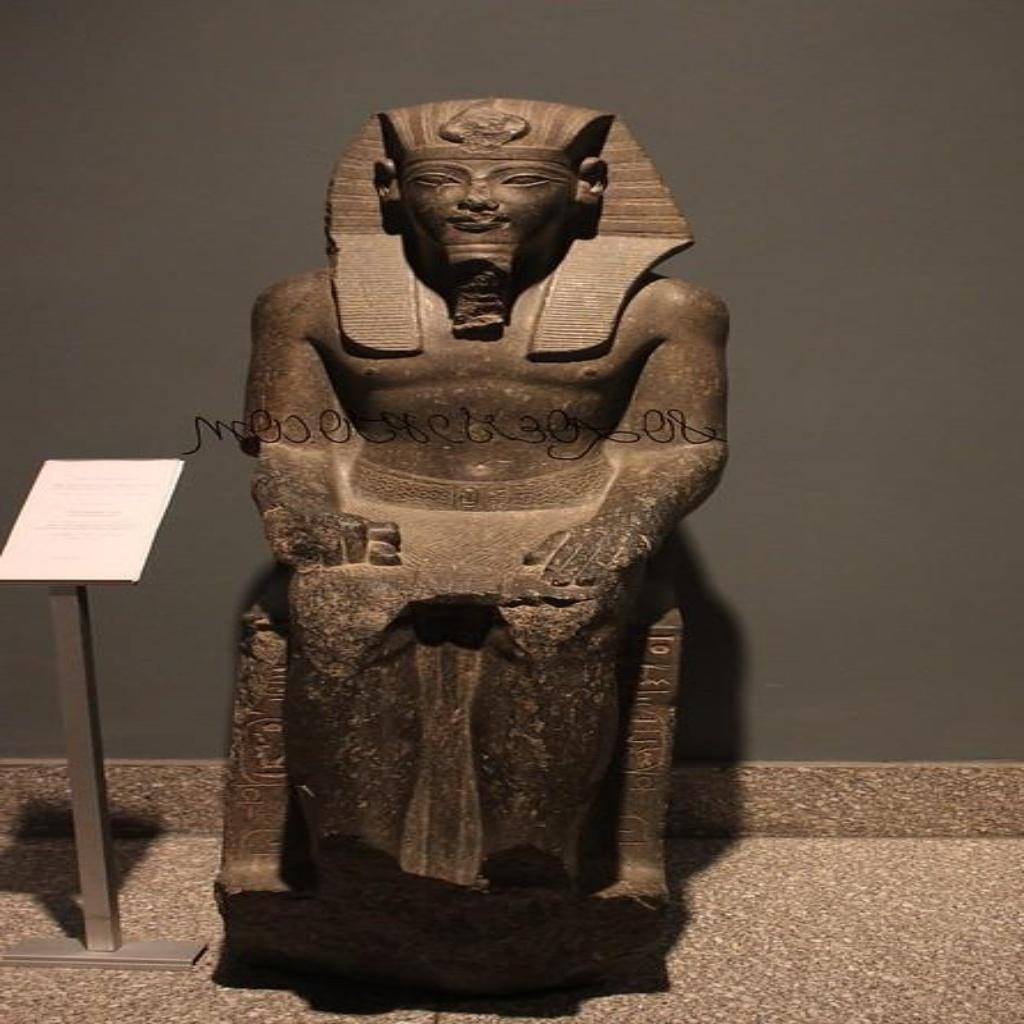Amenhotep III: (242, 94, 730, 910)
